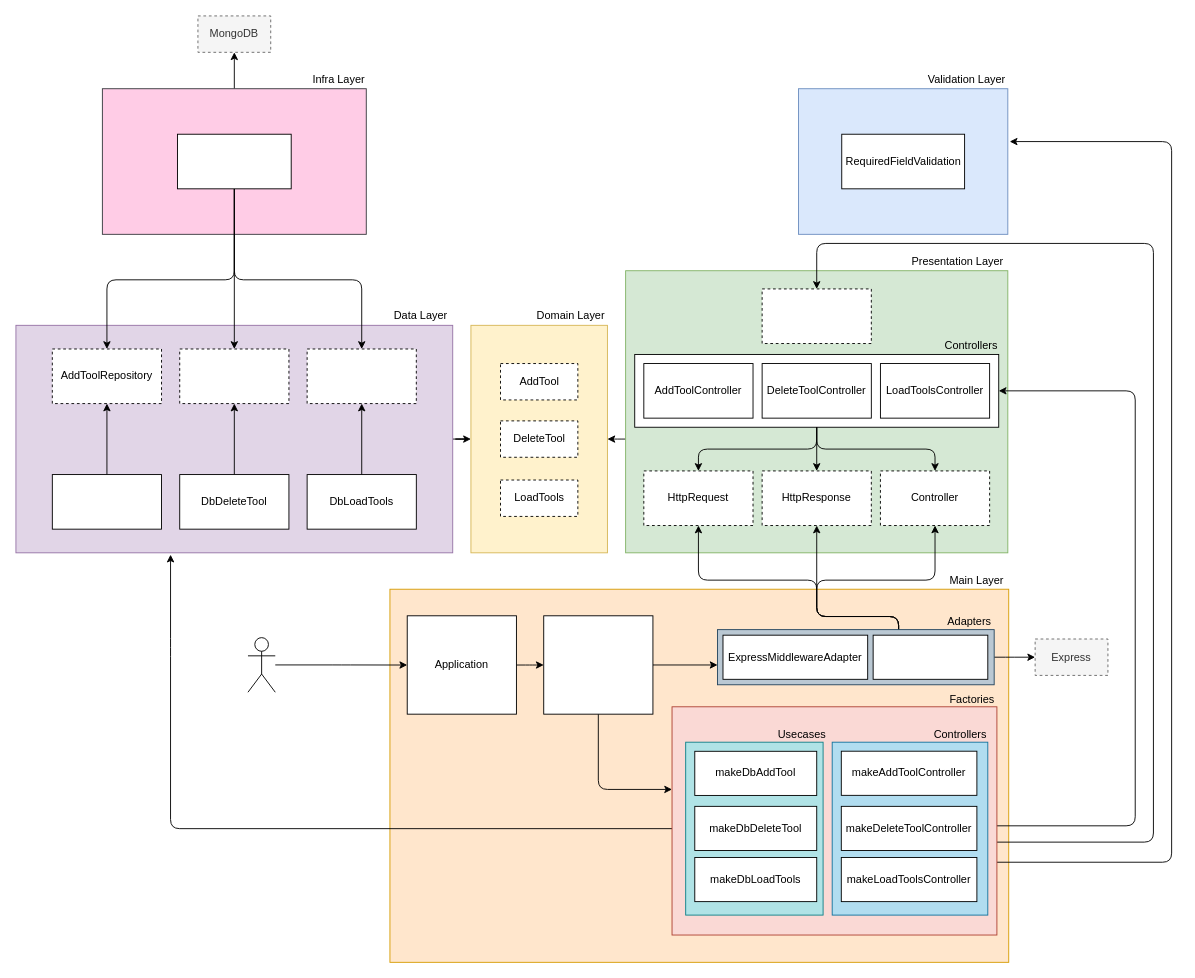
This 1195x978 diagram has some shape labels left out. The shapes that lost their labels are listed below. From the top down, each one's centre as x and y in pixels, then its label:
At pixel 234 161: "ToolMongoRepository".
At pixel 816 316: "Validation".
At pixel 234 376: "DeleteToolRepository".
At pixel 361 376: "LoadToolsRepository".
At pixel 106 501: "DbAddTool".
At pixel 261 664: "Client".
At pixel 598 664: "ToolRoutes".
At pixel 930 656: "ExpressRouteAdapter".
